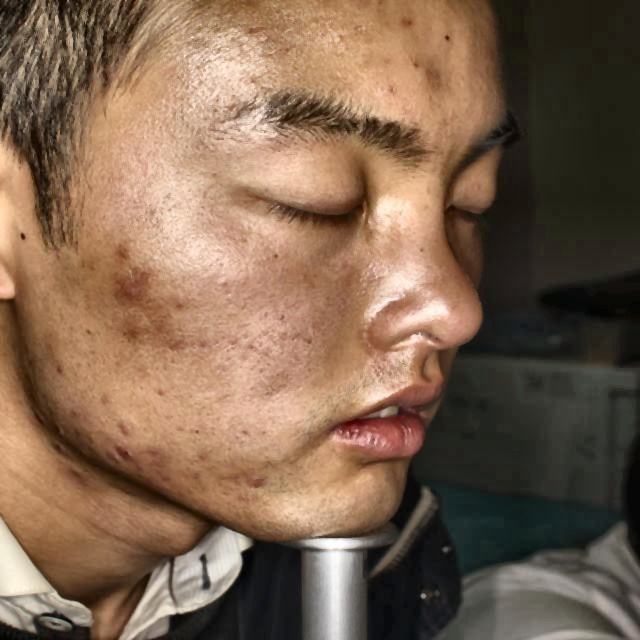pustule: (412, 61, 445, 93), (106, 437, 139, 468), (110, 280, 144, 310), (29, 403, 60, 435), (109, 239, 139, 272), (116, 317, 146, 349), (158, 328, 193, 354), (245, 466, 276, 495), (109, 412, 141, 432), (64, 455, 86, 481)
